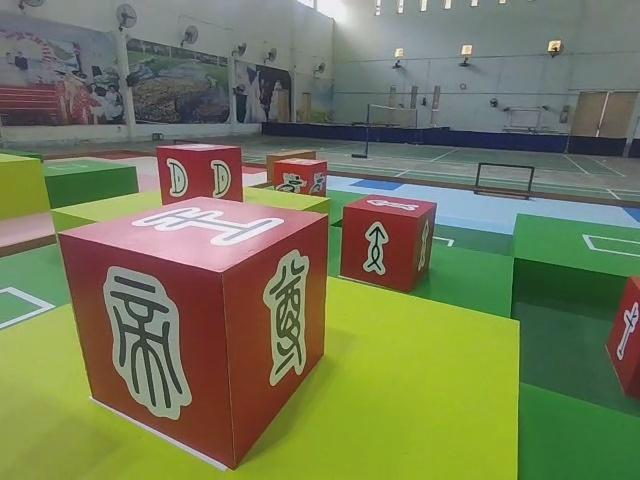R1: (274, 155, 328, 197)
R2 Fake: (60, 193, 331, 474)
R2 Real: (341, 189, 438, 293), (151, 142, 245, 208), (602, 269, 640, 402)
